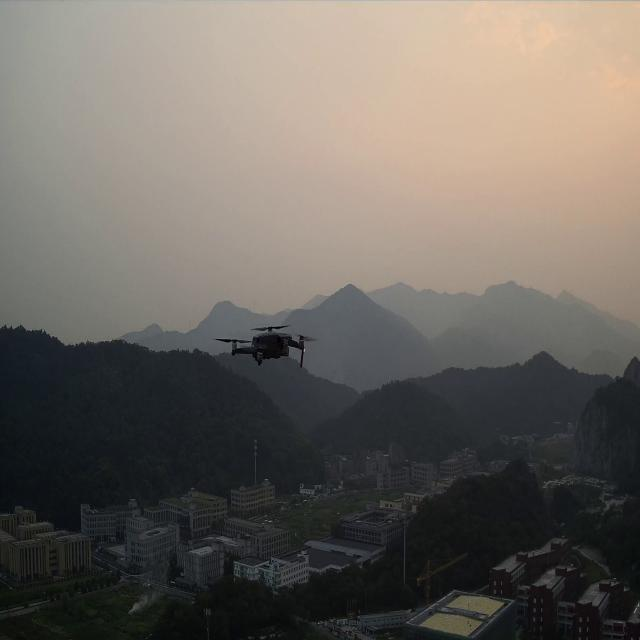UAV: (212, 323, 320, 369)
